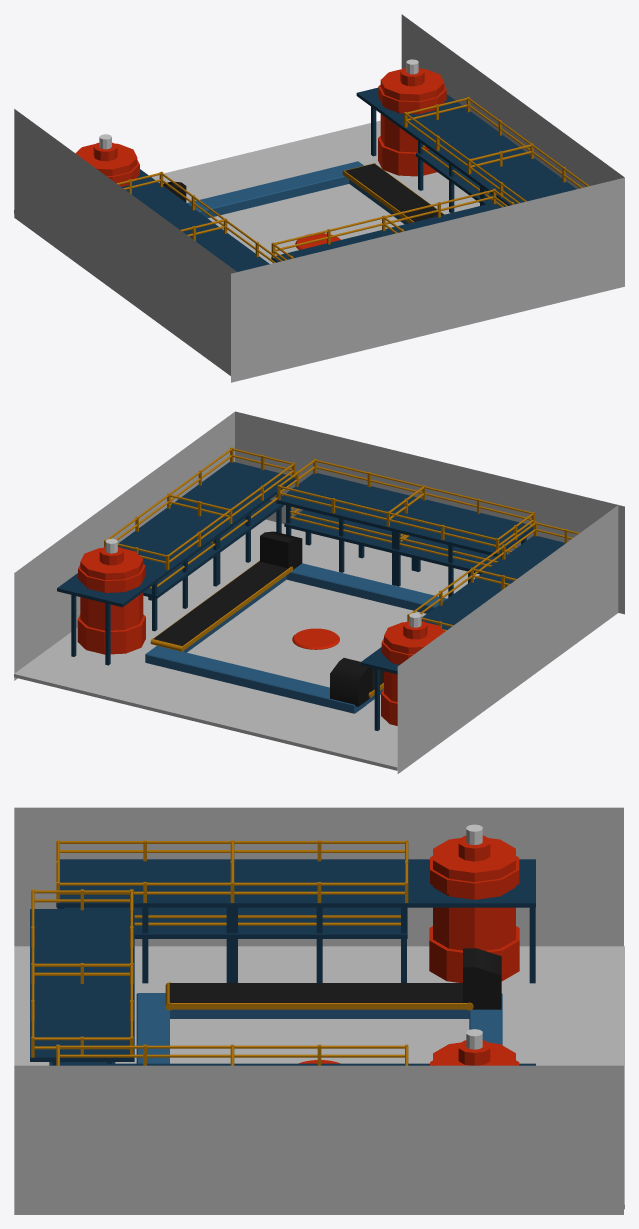
The picture shows the model from 3 angles, top to bottom: view 1: azimuth 30°, elevation 25°; view 2: azimuth 150°, elevation 25°; view 3: azimuth 270°, elevation 25°; orthographic projection. The views are drawn at different scales.
Visible parts, largest first — view 1: Wall_2, Wall_1, pCube1, Vat3, pCube14, Scafholding6, pCube27, pCube14_ncl1_1, pCylinder3, pCube4, pCube26, pCylinder6 (+2 smaller); view 2: pCube1, Wall_1, Scafholding6, Wall_2, Vat3, pCube27, pCube14_ncl1_1, pCube14, pCube4, pCylinder3, pCube29, pCylinder6 (+8 smaller); view 3: Wall_1, Vat3, pCube1, Scafholding6, pCube4_ncl1_1, pCube27, pCube2_ncl1_1, pCube29, pCube3_ncl1_1, pCylinder3, polySurface8, polySurface6 (+3 smaller).
Part boxes in pixels (box(x1,y1,x2,y2)): Wall_2: box(231, 177, 624, 382); Wall_1: box(14, 14, 624, 375); pCube1: box(14, 120, 479, 263); Vat3: box(75, 134, 282, 271); pCube14: box(403, 111, 534, 176); Scafholding6: box(271, 188, 514, 262); pCube27: box(187, 161, 363, 218); pCube14_ncl1_1: box(467, 158, 576, 205); pCylinder3: box(380, 69, 444, 152); pCube4: box(345, 163, 443, 221); pCube26: box(356, 87, 473, 131); pCylinder6: box(378, 136, 437, 176); pCube1: box(14, 519, 479, 770); Wall_1: box(14, 412, 618, 773); Scafholding6: box(276, 458, 534, 597); Wall_2: box(235, 411, 624, 614); Vat3: box(360, 521, 579, 730); pCube27: box(145, 563, 446, 713); pCube14_ncl1_1: box(170, 462, 295, 526); pCube14: box(118, 508, 232, 568); pCube4: box(153, 561, 288, 645); pCylinder3: box(80, 548, 143, 630); pCube29: box(330, 658, 372, 706); pCylinder6: box(77, 614, 145, 654); Wall_1: box(14, 807, 623, 1214); Vat3: box(56, 824, 535, 983); pCube1: box(14, 946, 624, 1209); Scafholding6: box(30, 889, 134, 1065); pCube4_ncl1_1: box(169, 983, 462, 1002); pCube27: box(136, 993, 502, 1063); pCube2_ncl1_1: box(170, 1009, 469, 1018); pCube29: box(463, 948, 501, 1009); pCube3_ncl1_1: box(171, 1003, 467, 1009); pCylinder3: box(433, 1042, 515, 1065); polySurface8: box(234, 1054, 404, 1057); polySurface6: box(234, 1045, 404, 1048).
Bounding box in the file's own units: 30.99 × 8.52 × 30.46.
